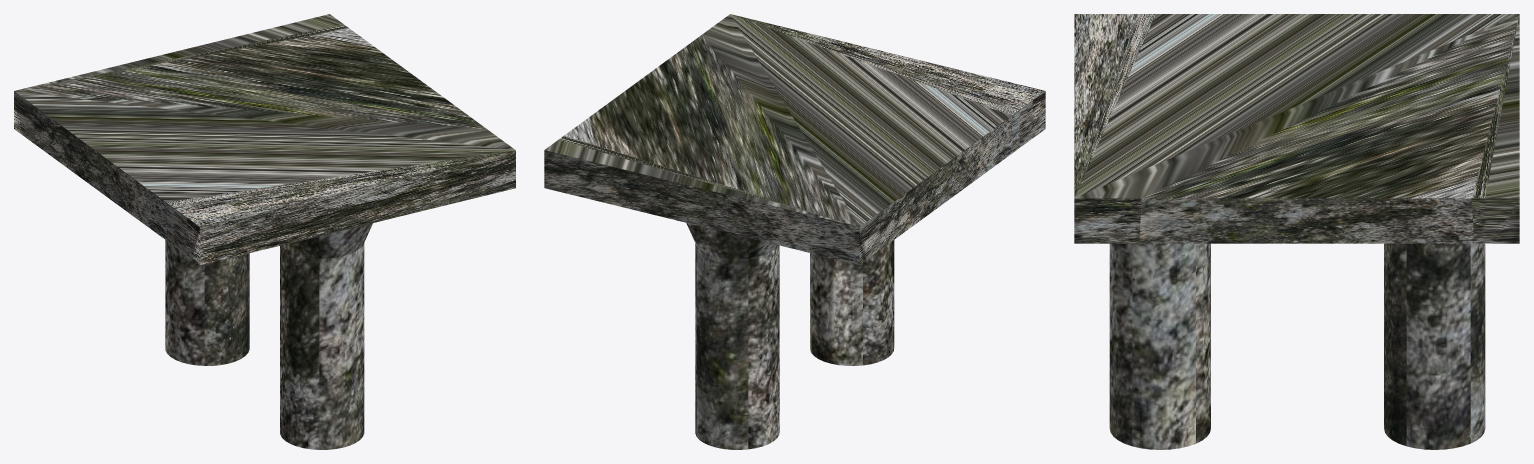
Rendered from no more belve.fbx.
3 renders of one model, left to right at view 1: azimuth 30°, elevation 25°; view 2: azimuth 150°, elevation 25°; view 3: azimuth 270°, elevation 25°, orthographic. The views are drawn at different scales.
Parts seen in each view (by area): view 1: Cube.001, Cylinder.002; view 2: Cube.001, Cylinder.002; view 3: Cube.001, Cylinder.002.
Boxes of the visible parts, x1,y1,x2,y2 form: Cube.001: (14, 14, 515, 265); Cylinder.002: (165, 223, 372, 449); Cube.001: (544, 14, 1045, 264); Cylinder.002: (686, 223, 894, 449); Cube.001: (1074, 14, 1519, 243); Cylinder.002: (1109, 243, 1485, 449).
Size of the model in its own units: 1512 by 1234 by 1544.
1 material, 1 textured.
